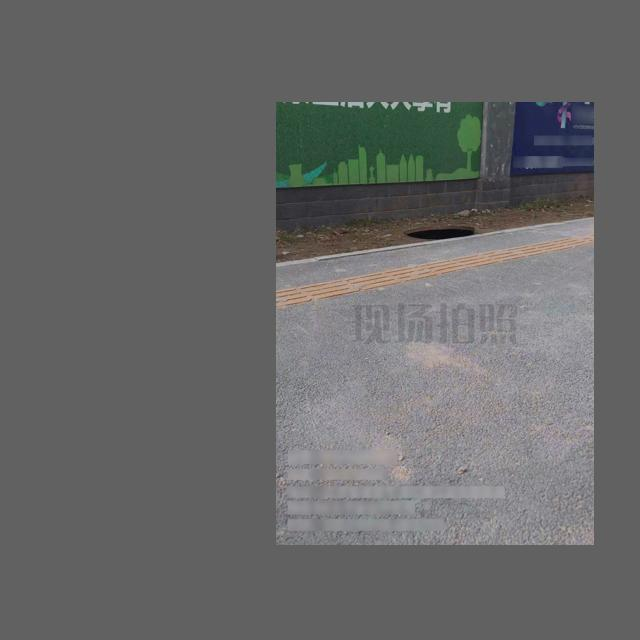lose: (403, 224, 477, 242)
